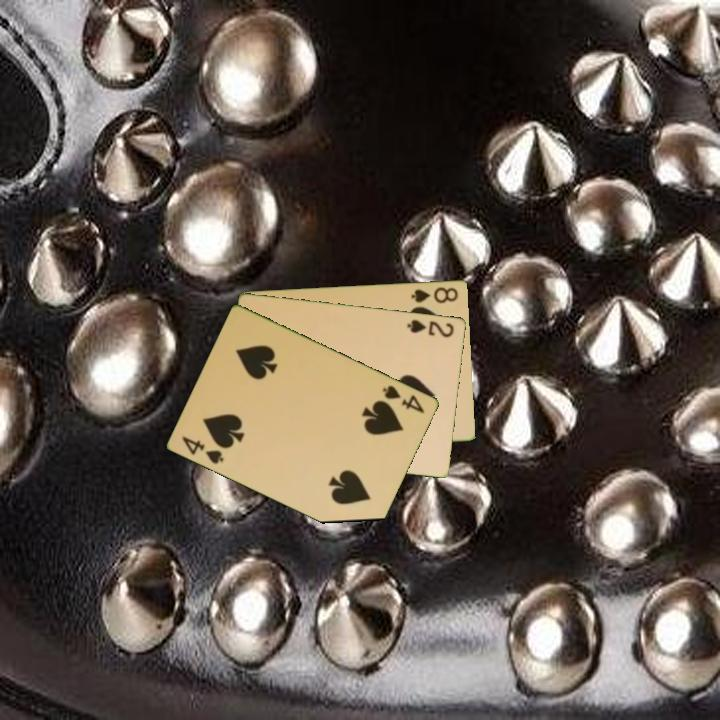2s: (404, 316, 457, 340)
4s: (379, 381, 428, 416), (179, 433, 227, 467)
8s: (408, 283, 461, 306)
